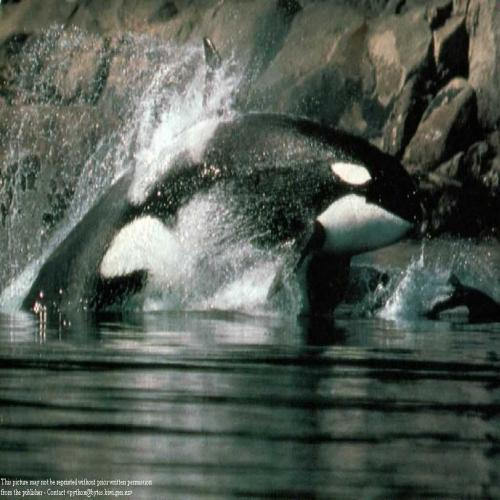killer_whale-endangered: (8, 50, 441, 354)
